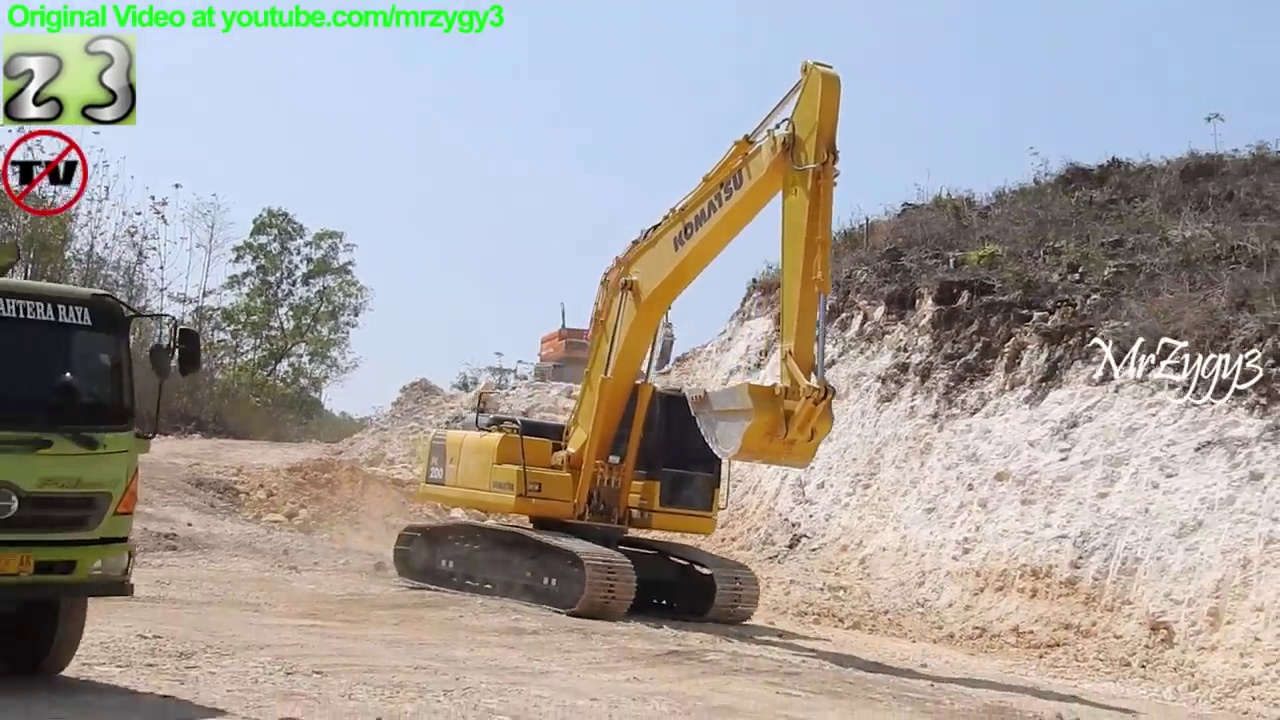excavator: (389, 54, 848, 633), (527, 264, 678, 389)
truck: (1, 231, 212, 696)
